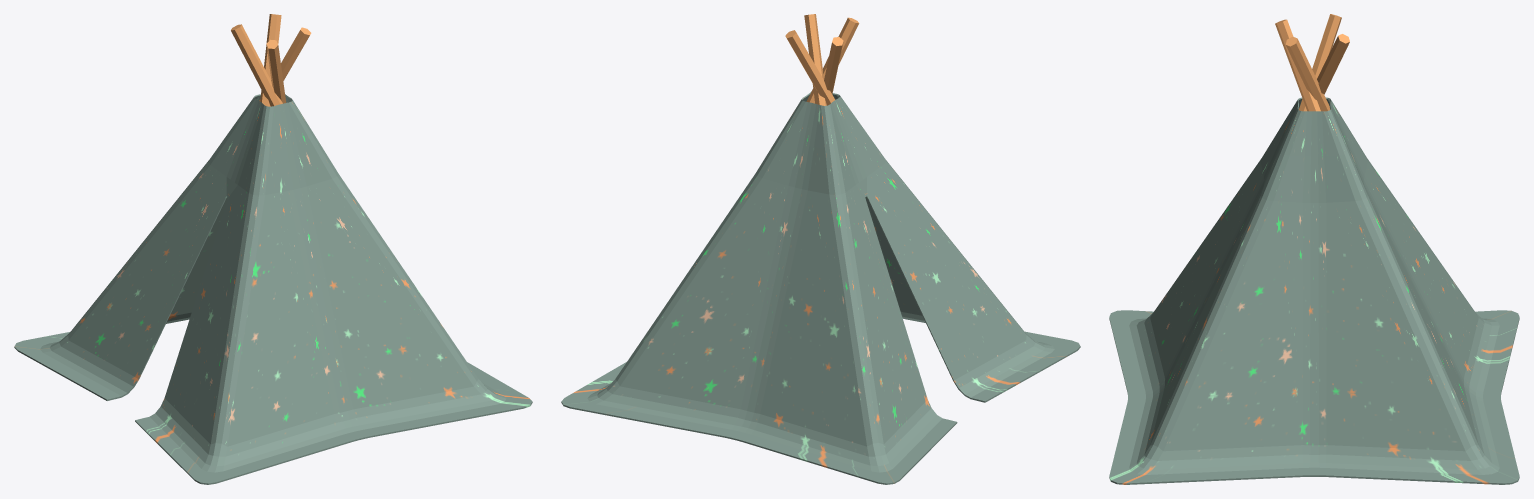
File: çadır.fbx
3 views of the same model, side by side, from view 1: azimuth 30°, elevation 25°; view 2: azimuth 150°, elevation 25°; view 3: azimuth 270°, elevation 25° (orthographic). The views are drawn at different scales.
Visible parts, largest first — view 1: Cube.034; view 2: Cube.034; view 3: Cube.034.
Part boxes in pixels (x1,y1,x2,y2): Cube.034: [14, 14, 532, 484]; Cube.034: [561, 14, 1080, 484]; Cube.034: [1109, 14, 1519, 484].
Bounding box in the file's own units: 653 × 654 × 657.
